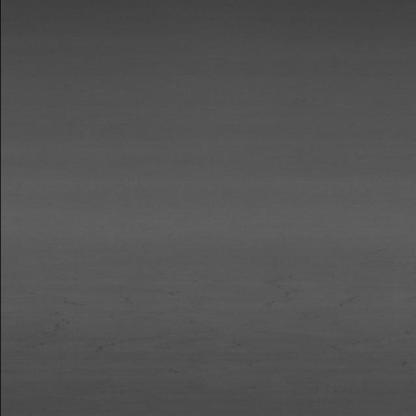silk_spot: (38, 271, 156, 358), (264, 258, 374, 320)
